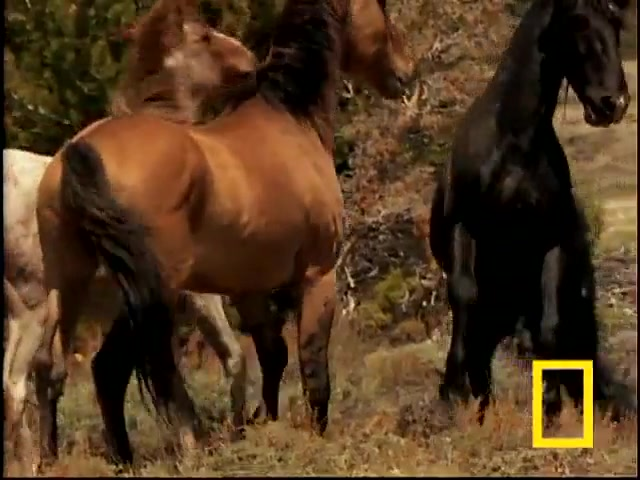horse: (25, 1, 423, 474)
